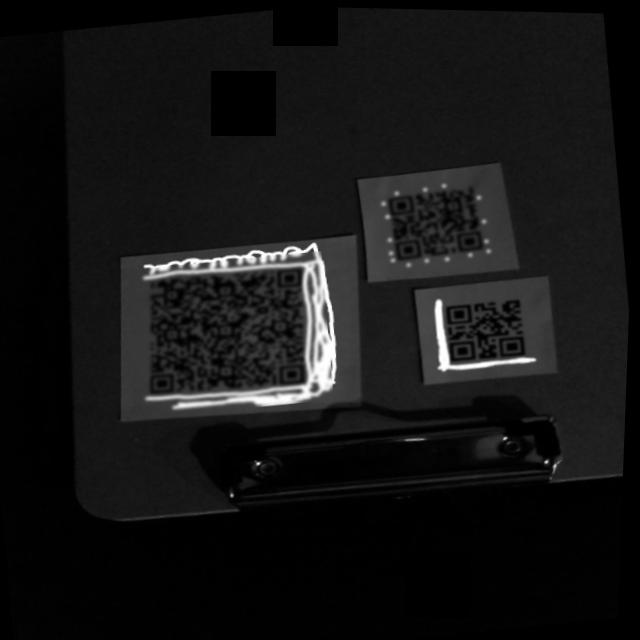QR_CODE: (125, 246, 341, 421), (370, 170, 505, 277), (429, 284, 548, 378)
